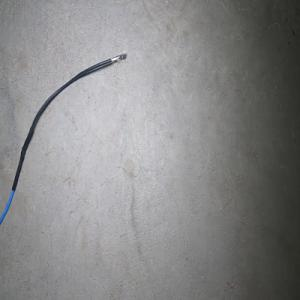Wire: (0, 50, 126, 226)
